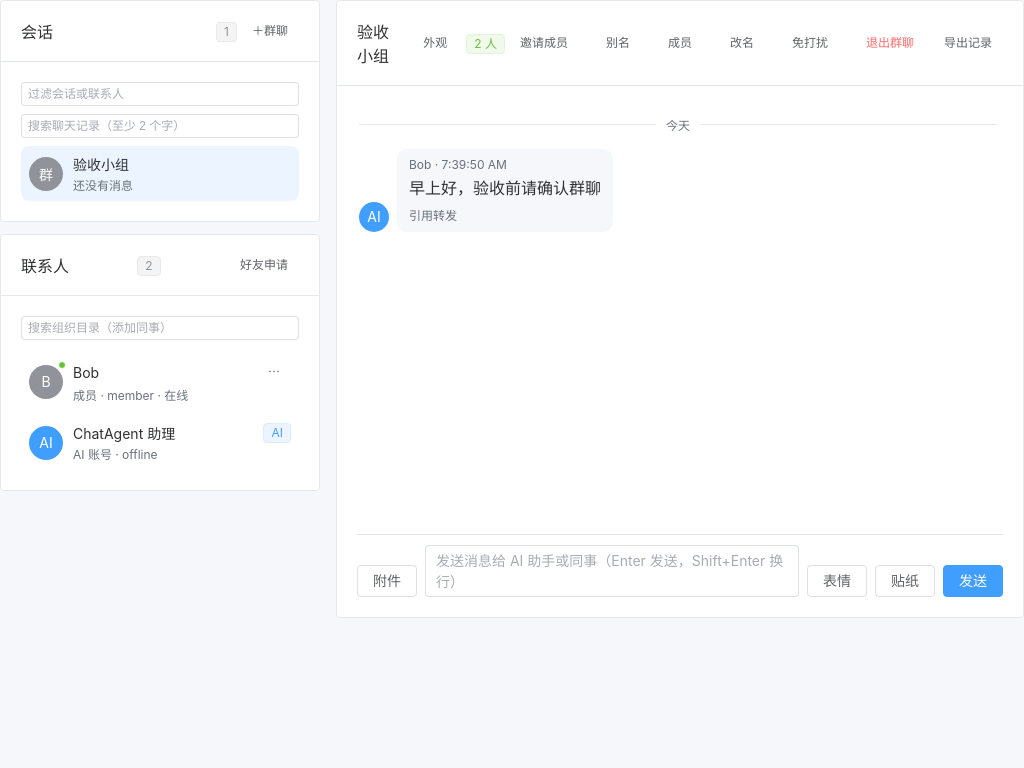
ChatView › leaves the open group conversation and clears the selection
Click the button "退出群聊" at [890, 43], box [855,31,925,55]
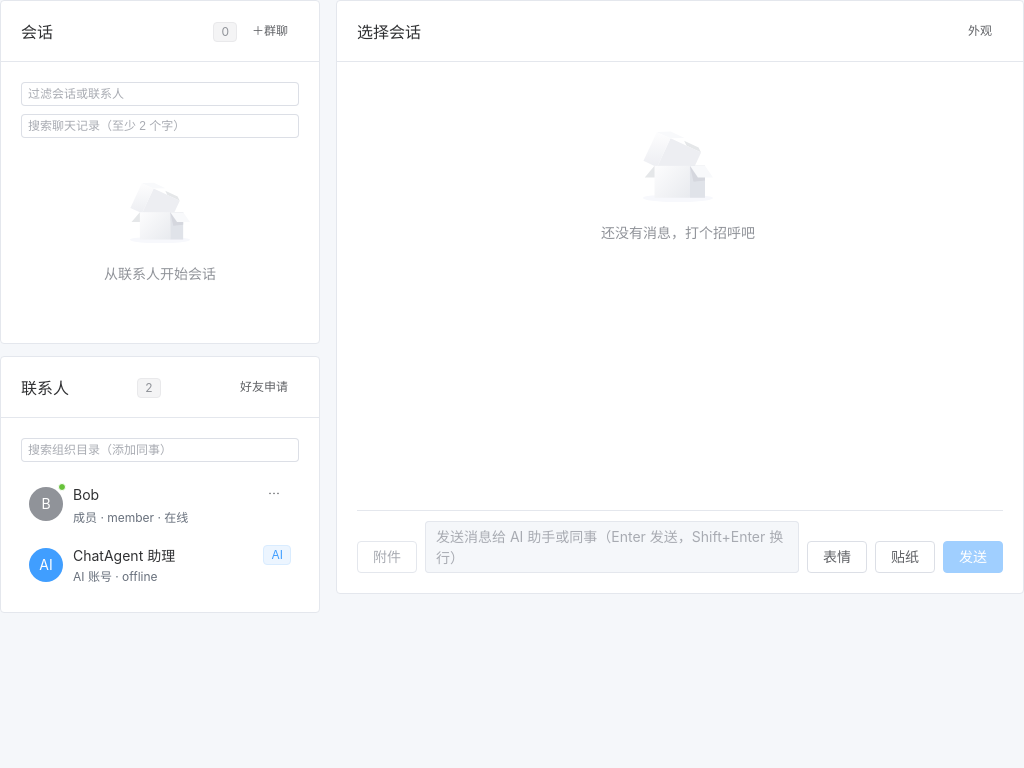
Expected: the text "验收小组" is gone
